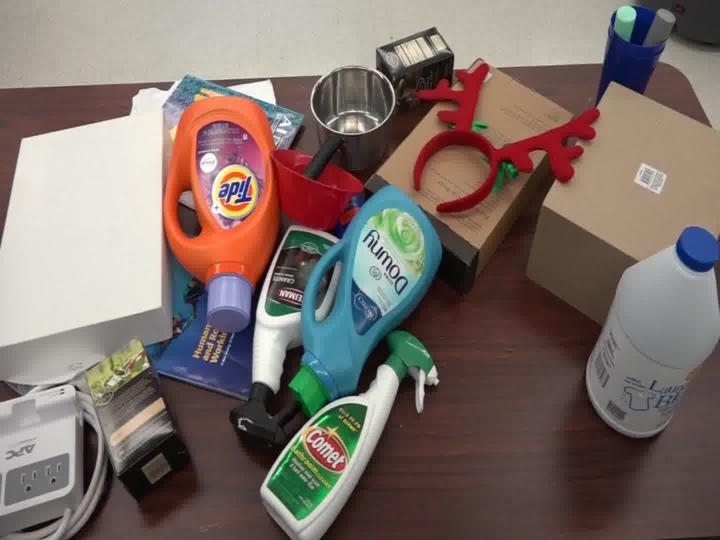downy: (270, 175, 449, 419)
